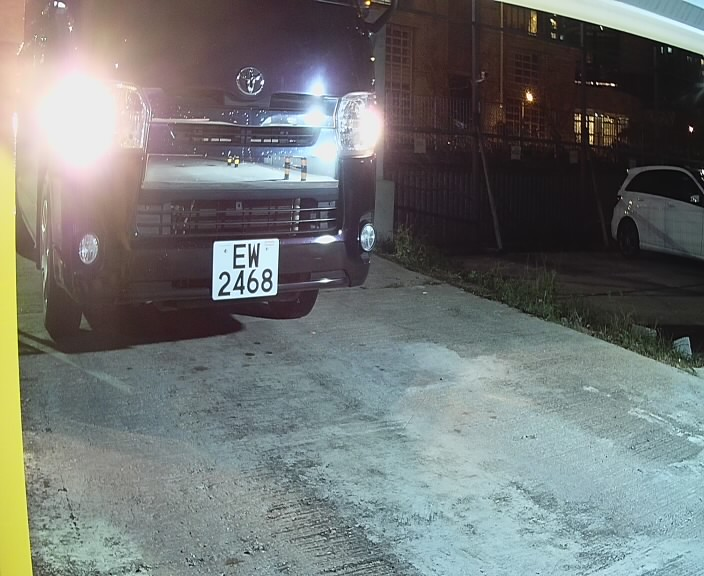License Plate: (209, 235, 288, 307)
